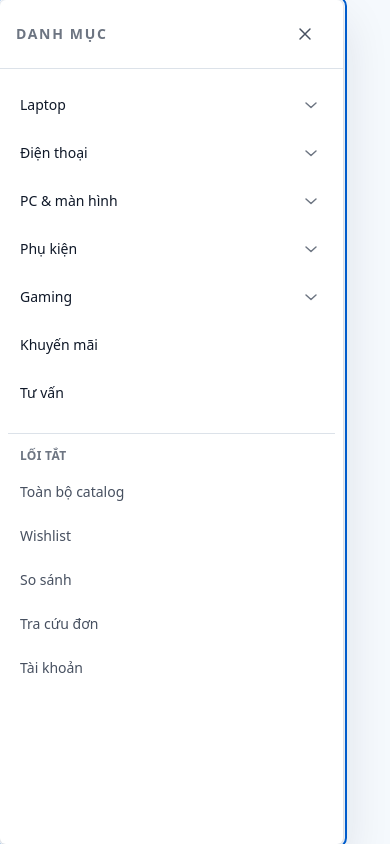
it: MobileNavDrawer › expands a category into its child links
Click the button named "mở rộng laptop" at (311, 105), box x1=287 y1=81 x2=335 y2=129
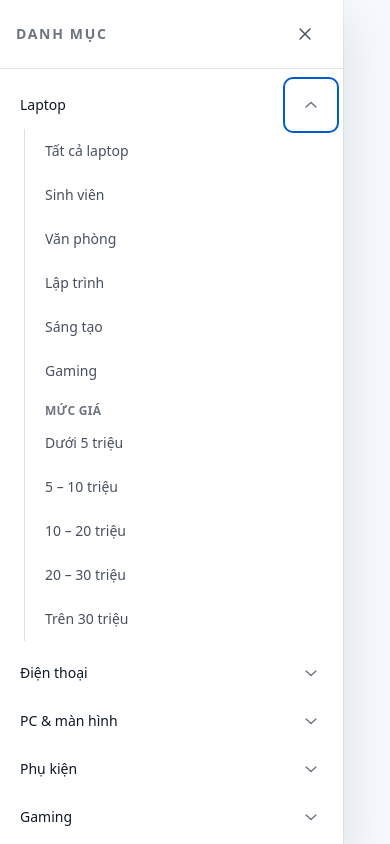
Check: the button named "mở rộng laptop" is expanded, box x1=287 y1=81 x2=335 y2=129
Check: the link "Sinh viên" is shown, box x1=45 y1=186 x2=104 y2=204
